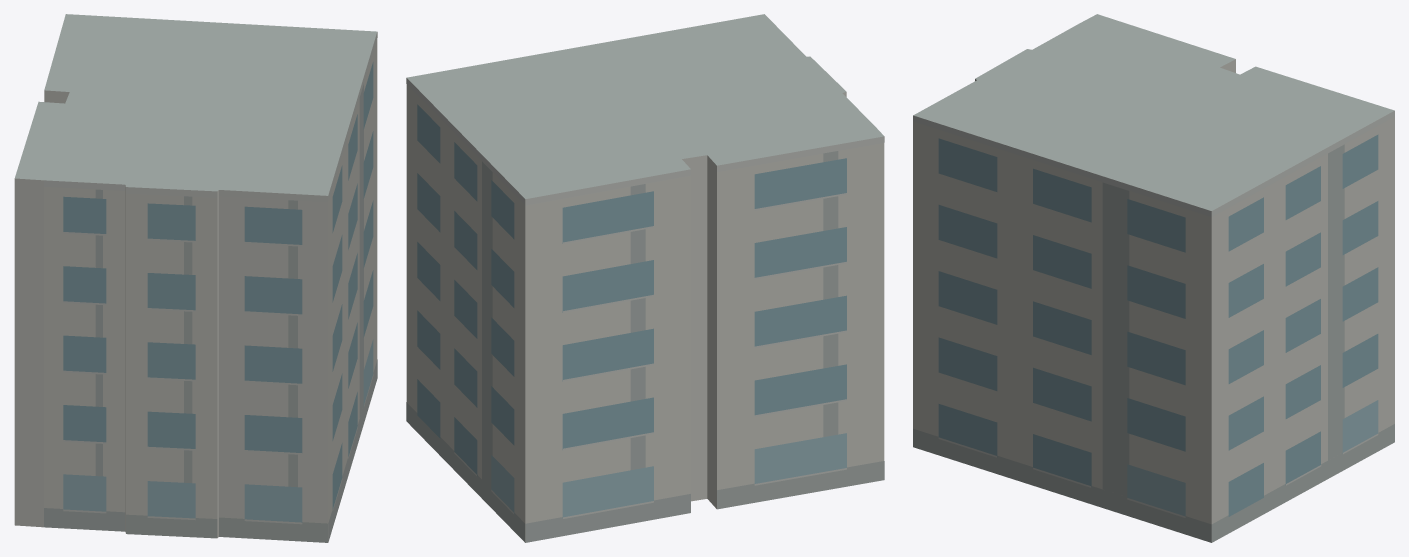
Rendered from survey-upis-32832290.glb.
3 views of the same model, side by side, from view 1: azimuth 30°, elevation 25°; view 2: azimuth 150°, elevation 25°; view 3: azimuth 270°, elevation 25° (orthographic). The views are drawn at different scales.
Parts seen in each view (by area): view 1: survey-upis-32832290.tmp; view 2: survey-upis-32832290.tmp; view 3: survey-upis-32832290.tmp.
Boxes of the visible parts, x1=… form: survey-upis-32832290.tmp: x1=14, y1=14, x2=377, y2=542; survey-upis-32832290.tmp: x1=406, y1=14, x2=884, y2=542; survey-upis-32832290.tmp: x1=913, y1=14, x2=1394, y2=542.
Bounding box in the file's own units: 16.67 × 13.07 × 17.21.
